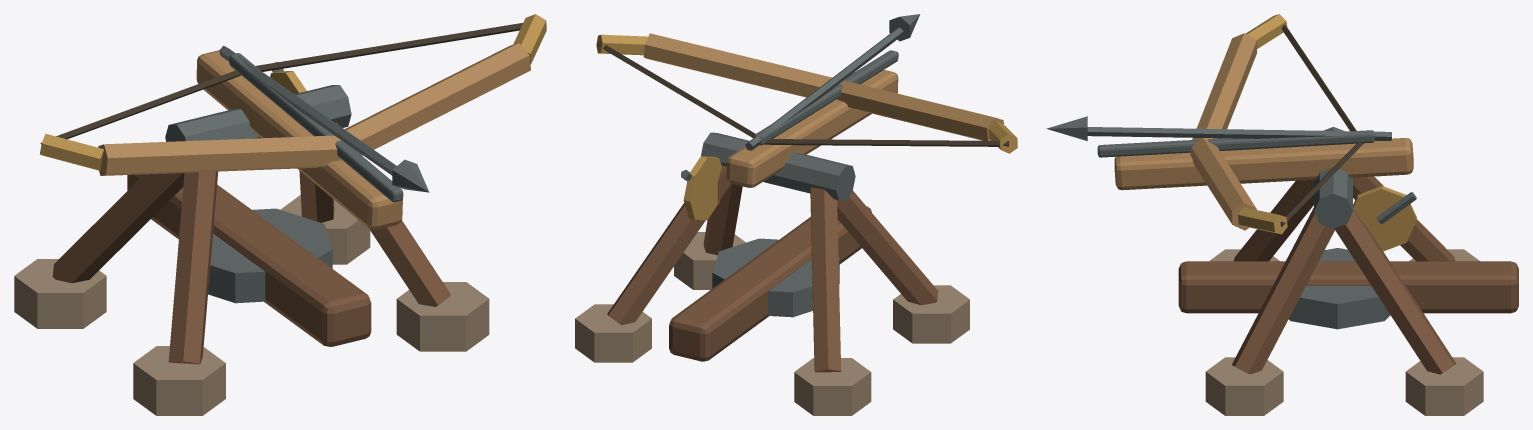
File: silk-road-ballista.glb
3 views of the same model, side by side, from view 1: azimuth 30°, elevation 25°; view 2: azimuth 150°, elevation 25°; view 3: azimuth 270°, elevation 25° (orthographic). The views are drawn at different scales.
Visible parts, largest first — view 1: carriage-spine, bow-arm--1, stock, front-brace--1, bow-arm-1, rear-brace--1, anchor-0, anchor-1, anchor-2, swivel, trunnion, front-brace-1 (+10 smaller); view 2: carriage-spine, rear-brace--1, stock, bow-arm-1, bow-arm--1, front-brace--1, rear-brace-1, anchor-2, trunnion, anchor-3, anchor-0, swivel (+10 smaller); view 3: carriage-spine, stock, rear-brace-1, front-brace-1, swivel, anchor-1, anchor-3, bolt-rail, bow-arm--1, loaded-bolt, bow-arm-1, crank-wheel (+9 smaller).
Boxes of the visible parts, x1,y1,x2,y2 form: carriage-spine: (127, 174, 371, 346); bow-arm--1: (98, 135, 340, 175); stock: (196, 50, 402, 229); front-brace--1: (168, 171, 218, 364); bow-arm-1: (335, 43, 530, 155); rear-brace--1: (52, 173, 184, 283); anchor-0: (133, 346, 225, 415); anchor-1: (396, 282, 489, 351); anchor-2: (14, 259, 106, 328); swivel: (208, 208, 332, 303); trunnion: (165, 85, 351, 141); front-brace-1: (336, 122, 450, 306); carriage-spine: (669, 206, 871, 361); rear-brace--1: (810, 187, 841, 372); stock: (726, 70, 898, 187); bow-arm-1: (643, 33, 841, 97); bow-arm--1: (837, 80, 1003, 140); front-brace--1: (837, 190, 938, 305); rear-brace-1: (607, 165, 730, 324); anchor-2: (794, 358, 871, 415); trunnion: (701, 132, 855, 200); anchor-3: (575, 304, 651, 362); anchor-0: (893, 285, 969, 343); swivel: (712, 238, 839, 317); carriage-spine: (1178, 261, 1518, 313); stock: (1114, 138, 1413, 190); rear-brace-1: (1334, 209, 1456, 374); front-brace-1: (1232, 207, 1334, 374); swivel: (1289, 248, 1390, 329); anchor-1: (1205, 357, 1283, 415); anchor-3: (1405, 357, 1483, 415); bolt-rail: (1097, 130, 1374, 157); bow-arm--1: (1192, 33, 1257, 140); loaded-bolt: (1087, 127, 1391, 140); bow-arm-1: (1190, 138, 1256, 230); crank-wheel: (1353, 186, 1416, 251).
Bounding box in the file's own units: 3.54 × 1.85 × 3.41.
